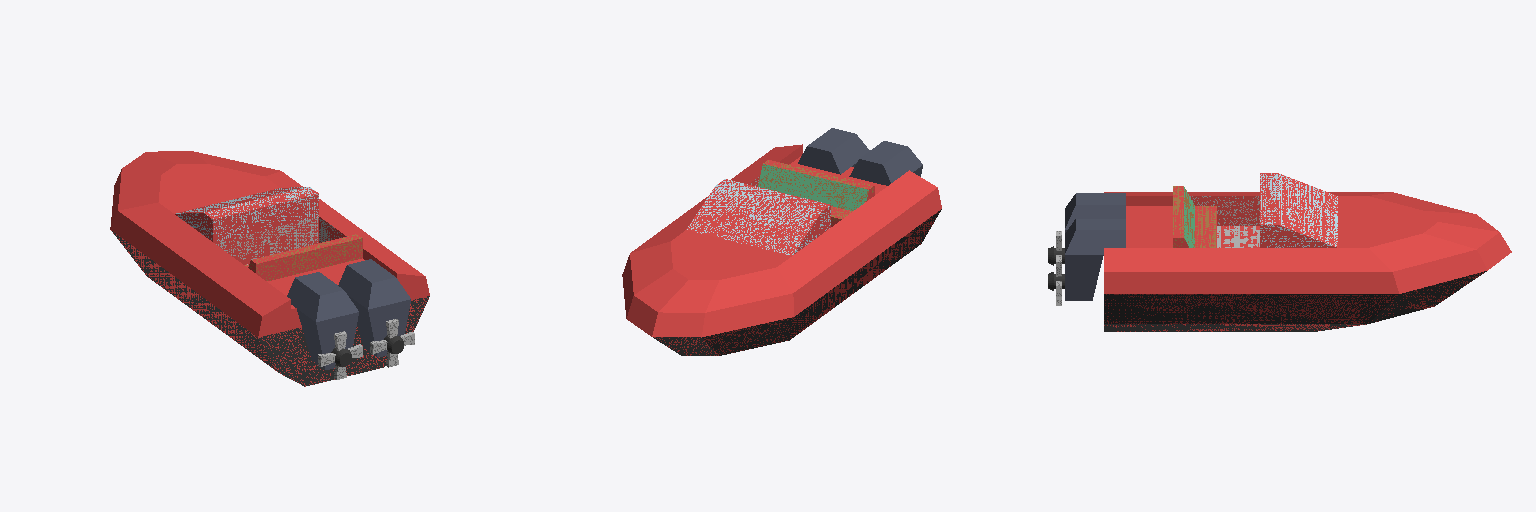
Rendered from boat_019.obj.
3 renders of one model, left to right at view 1: azimuth 30°, elevation 25°; view 2: azimuth 150°, elevation 25°; view 3: azimuth 270°, elevation 25°, orthographic.
Parts seen in each view (by area): view 1: boat_019, Group; view 2: boat_019, Group; view 3: boat_019, Group.
Part boxes in pixels (x1,y1,x2,y2): boat_019: (110,151,429,386); Group: (287,259,414,379); boat_019: (622,144,941,355); Group: (798,128,922,185); boat_019: (1104,173,1511,331); Group: (1048,193,1125,305).
Size of the model in its own units: 1.78 by 1.12 by 4.17.